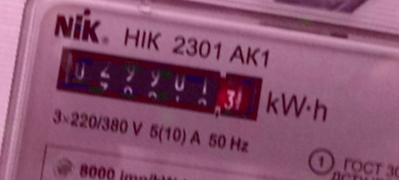0: (169, 66, 188, 93), (69, 56, 87, 80)
1: (196, 70, 212, 96)
2: (96, 55, 114, 79)
3: (219, 86, 238, 111)
9: (146, 64, 161, 89), (121, 59, 137, 82)
screen: (45, 36, 273, 132)
